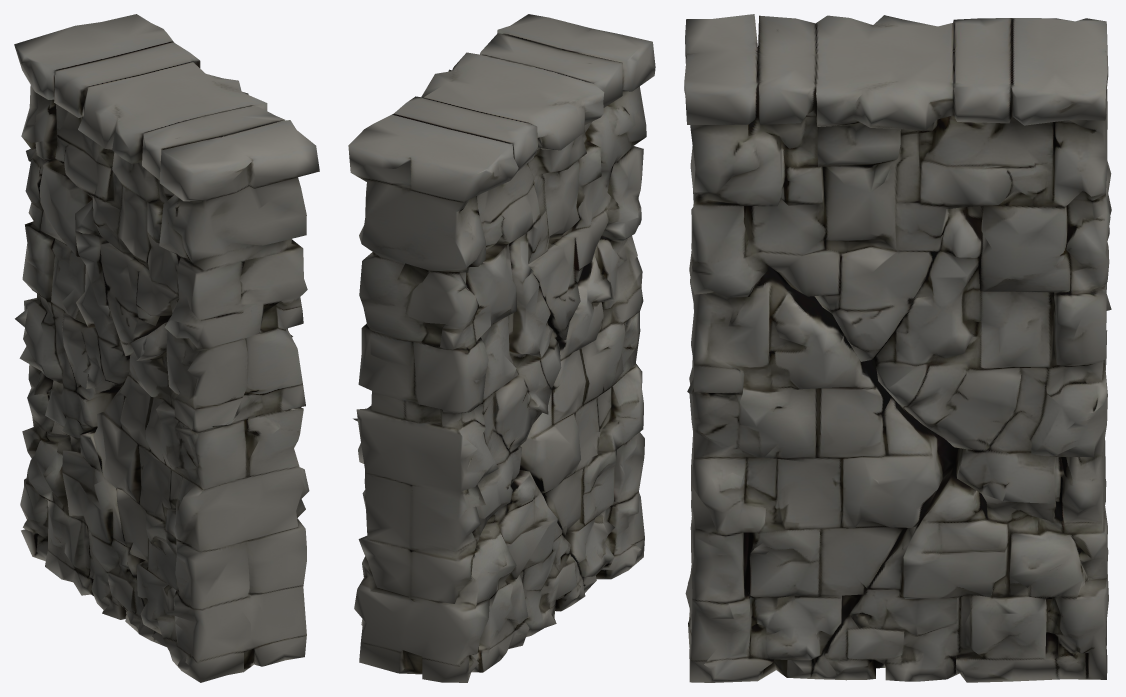
Rendered from wall_cracked.glb.
The picture shows the model from 3 angles, left to right: view 1: azimuth 30°, elevation 25°; view 2: azimuth 150°, elevation 25°; view 3: azimuth 270°, elevation 25°; orthographic projection. The views are drawn at different scales.
Visible parts, largest first — view 1: tripo_node_3be60ad9-fec9-41c5-8aa8-f1b243b1159f; view 2: tripo_node_3be60ad9-fec9-41c5-8aa8-f1b243b1159f; view 3: tripo_node_3be60ad9-fec9-41c5-8aa8-f1b243b1159f.
Part boxes in pixels (x1,y1,x2,y2): tripo_node_3be60ad9-fec9-41c5-8aa8-f1b243b1159f: (14,14,319,682); tripo_node_3be60ad9-fec9-41c5-8aa8-f1b243b1159f: (348,14,655,682); tripo_node_3be60ad9-fec9-41c5-8aa8-f1b243b1159f: (684,14,1111,682).
Bounding box in the file's own units: 0.3056 × 1 × 0.6428.
Materials: 1 (1 with a texture image).
